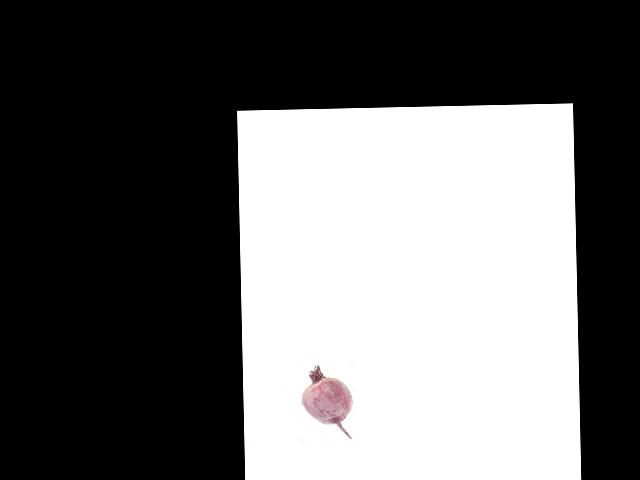beet: (301, 364, 353, 438)
